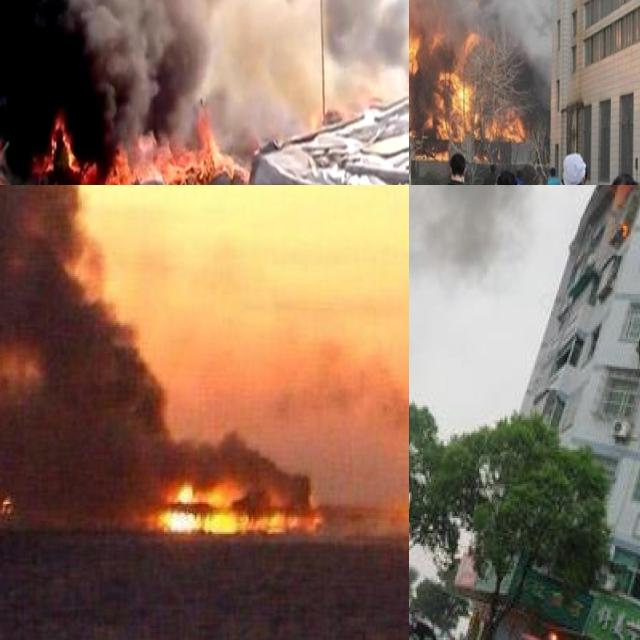fire: (409, 0, 531, 160), (34, 115, 250, 185), (150, 476, 319, 536), (0, 139, 6, 185)
smoke: (0, 185, 306, 495), (0, 0, 275, 114), (409, 185, 615, 323), (409, 0, 558, 58), (320, 0, 409, 96)
